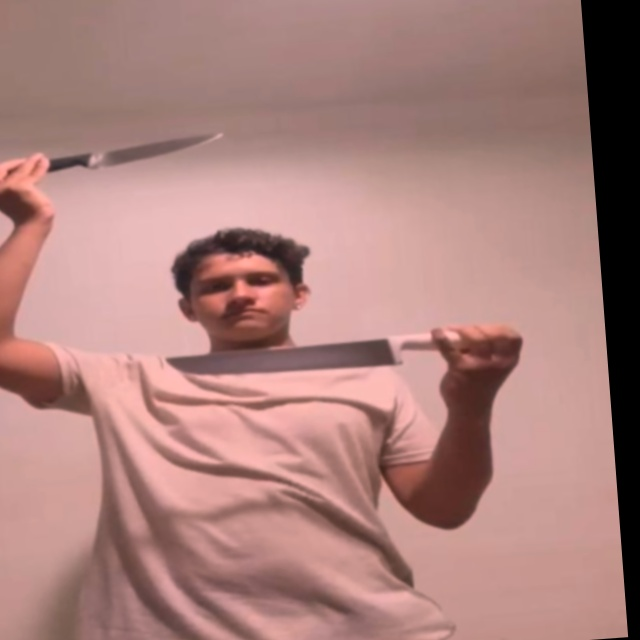Sharp-Object: (169, 338, 399, 380), (86, 136, 219, 171)
